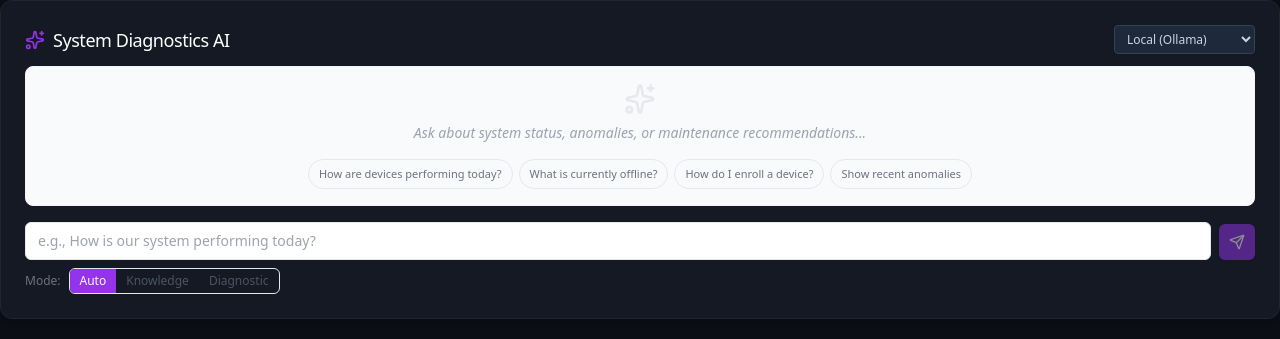
Test: AskAIWidget failure messages (frontend/src/utils/aiErrorMessage.js) › explains a dropped connection
This screenshot has width=1280, height=339.
Step 1. Type "What is the system status?" into the field → x=618, y=241, box [25,222,1211,260]
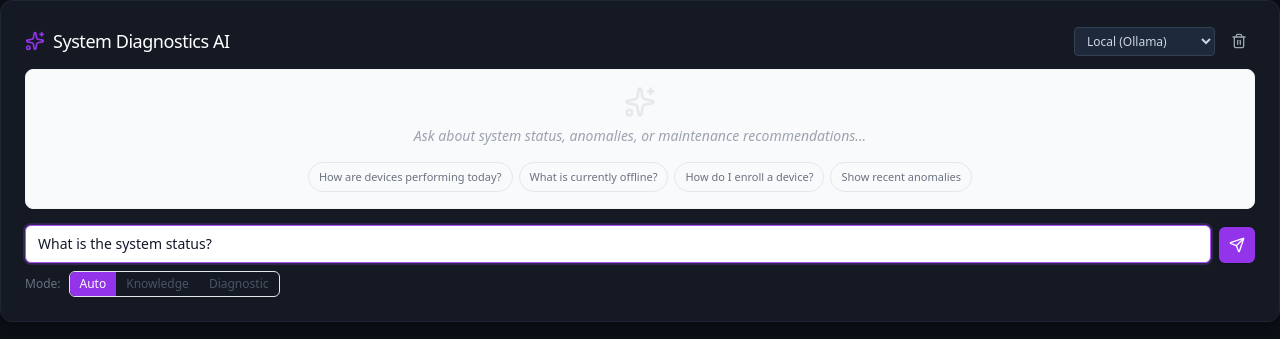
Step 2. Click the button named "Send" → x=1237, y=245, box [1219,227,1255,263]
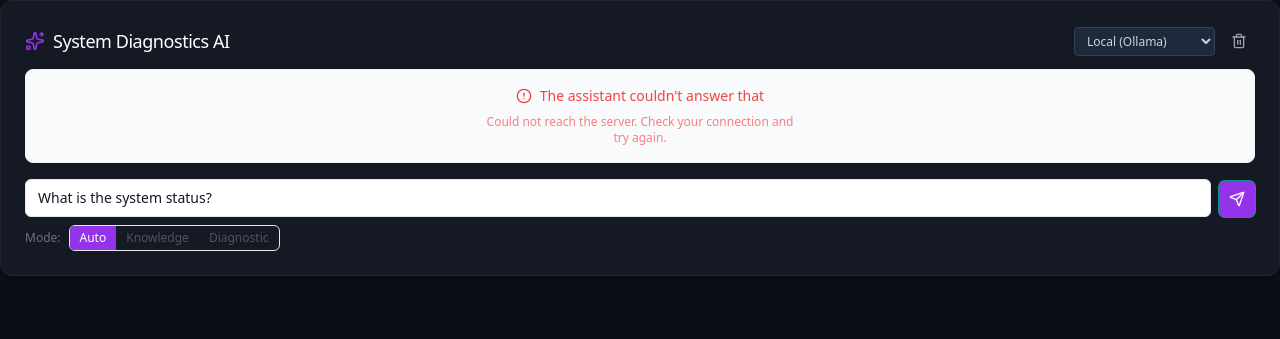
Check: the text "Could not reach the server" is shown, box [486,113,793,146]
